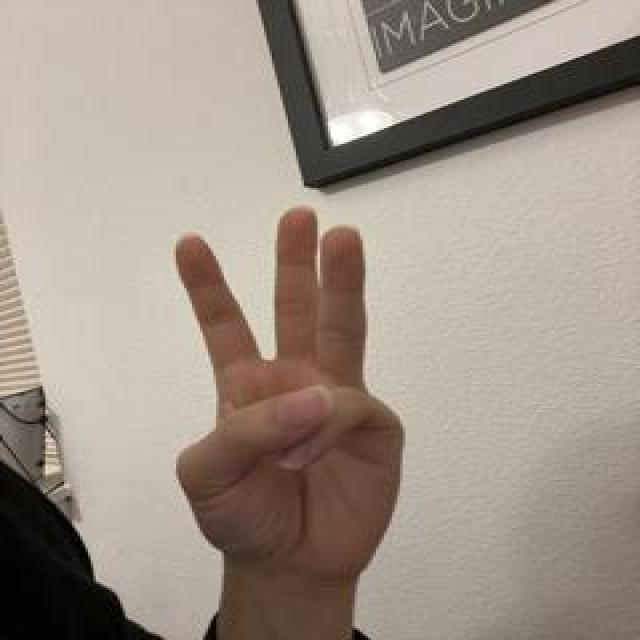W: (166, 201, 414, 581)
